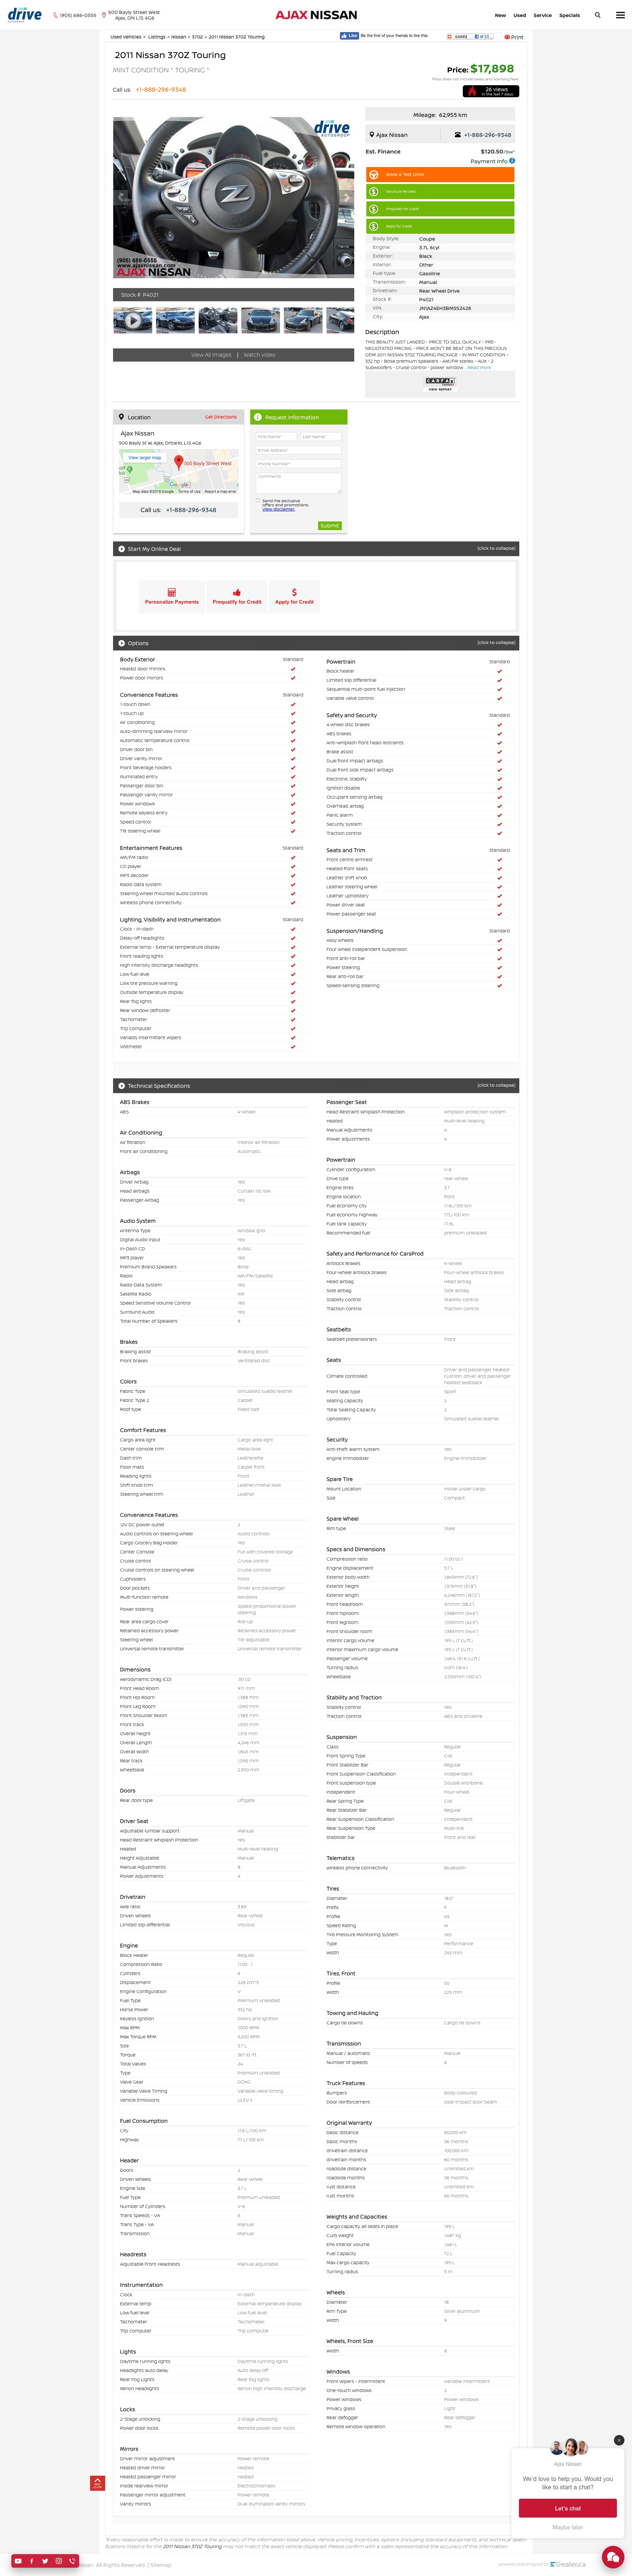car: (338, 191, 355, 205)
